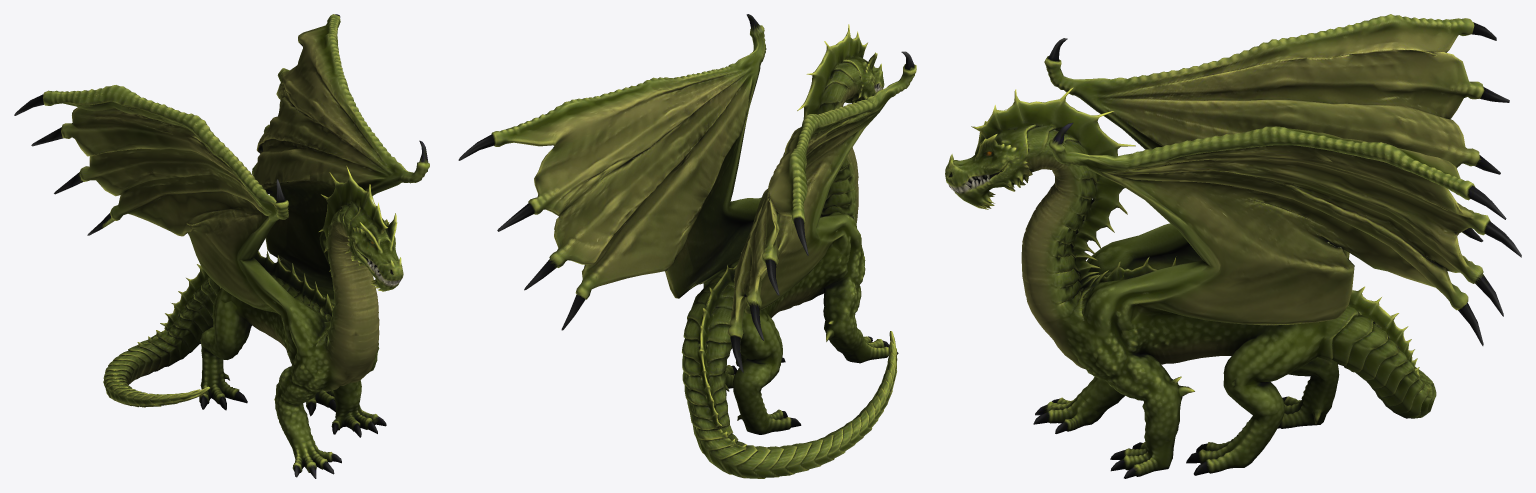
File: MZ4250 - Dragon Green.glb
3 renders of one model, left to right at view 1: azimuth 30°, elevation 25°; view 2: azimuth 150°, elevation 25°; view 3: azimuth 270°, elevation 25°, orthographic. The views are drawn at different scales.
Visible parts, largest first — view 1: body_low.001; view 2: body_low.001; view 3: body_low.001.
Part boxes in pixels (bbox=[...]): body_low.001: bbox=[14, 14, 429, 478]; body_low.001: bbox=[458, 14, 916, 478]; body_low.001: bbox=[945, 14, 1521, 478].
Bounding box in the file's own units: 6.58 × 5.83 × 8.17.
Materials: 1 (1 with a texture image).
